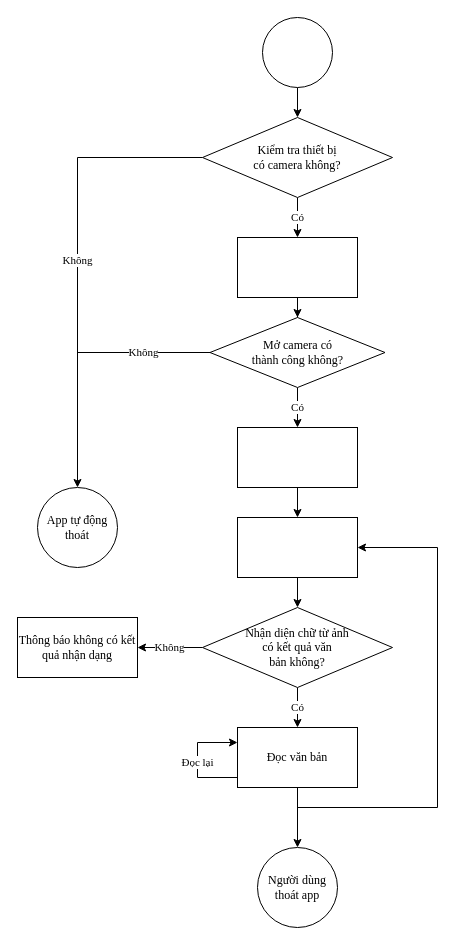
Some shapes in this 463 by 945 pixel diagram are drawn without their labels. Here are the shapes that lost their labels. From the top down, the centre of each, then its label:
At (297,52): "Người dùng mở app".
At (297,267): "Xin quyền sử dụng camera và bộ nhớ".
At (297,457): "Chuẩn bị dữ liệu nhận diện chữ và giọng nói".
At (297,547): "Người dùng chụp ảnh".
